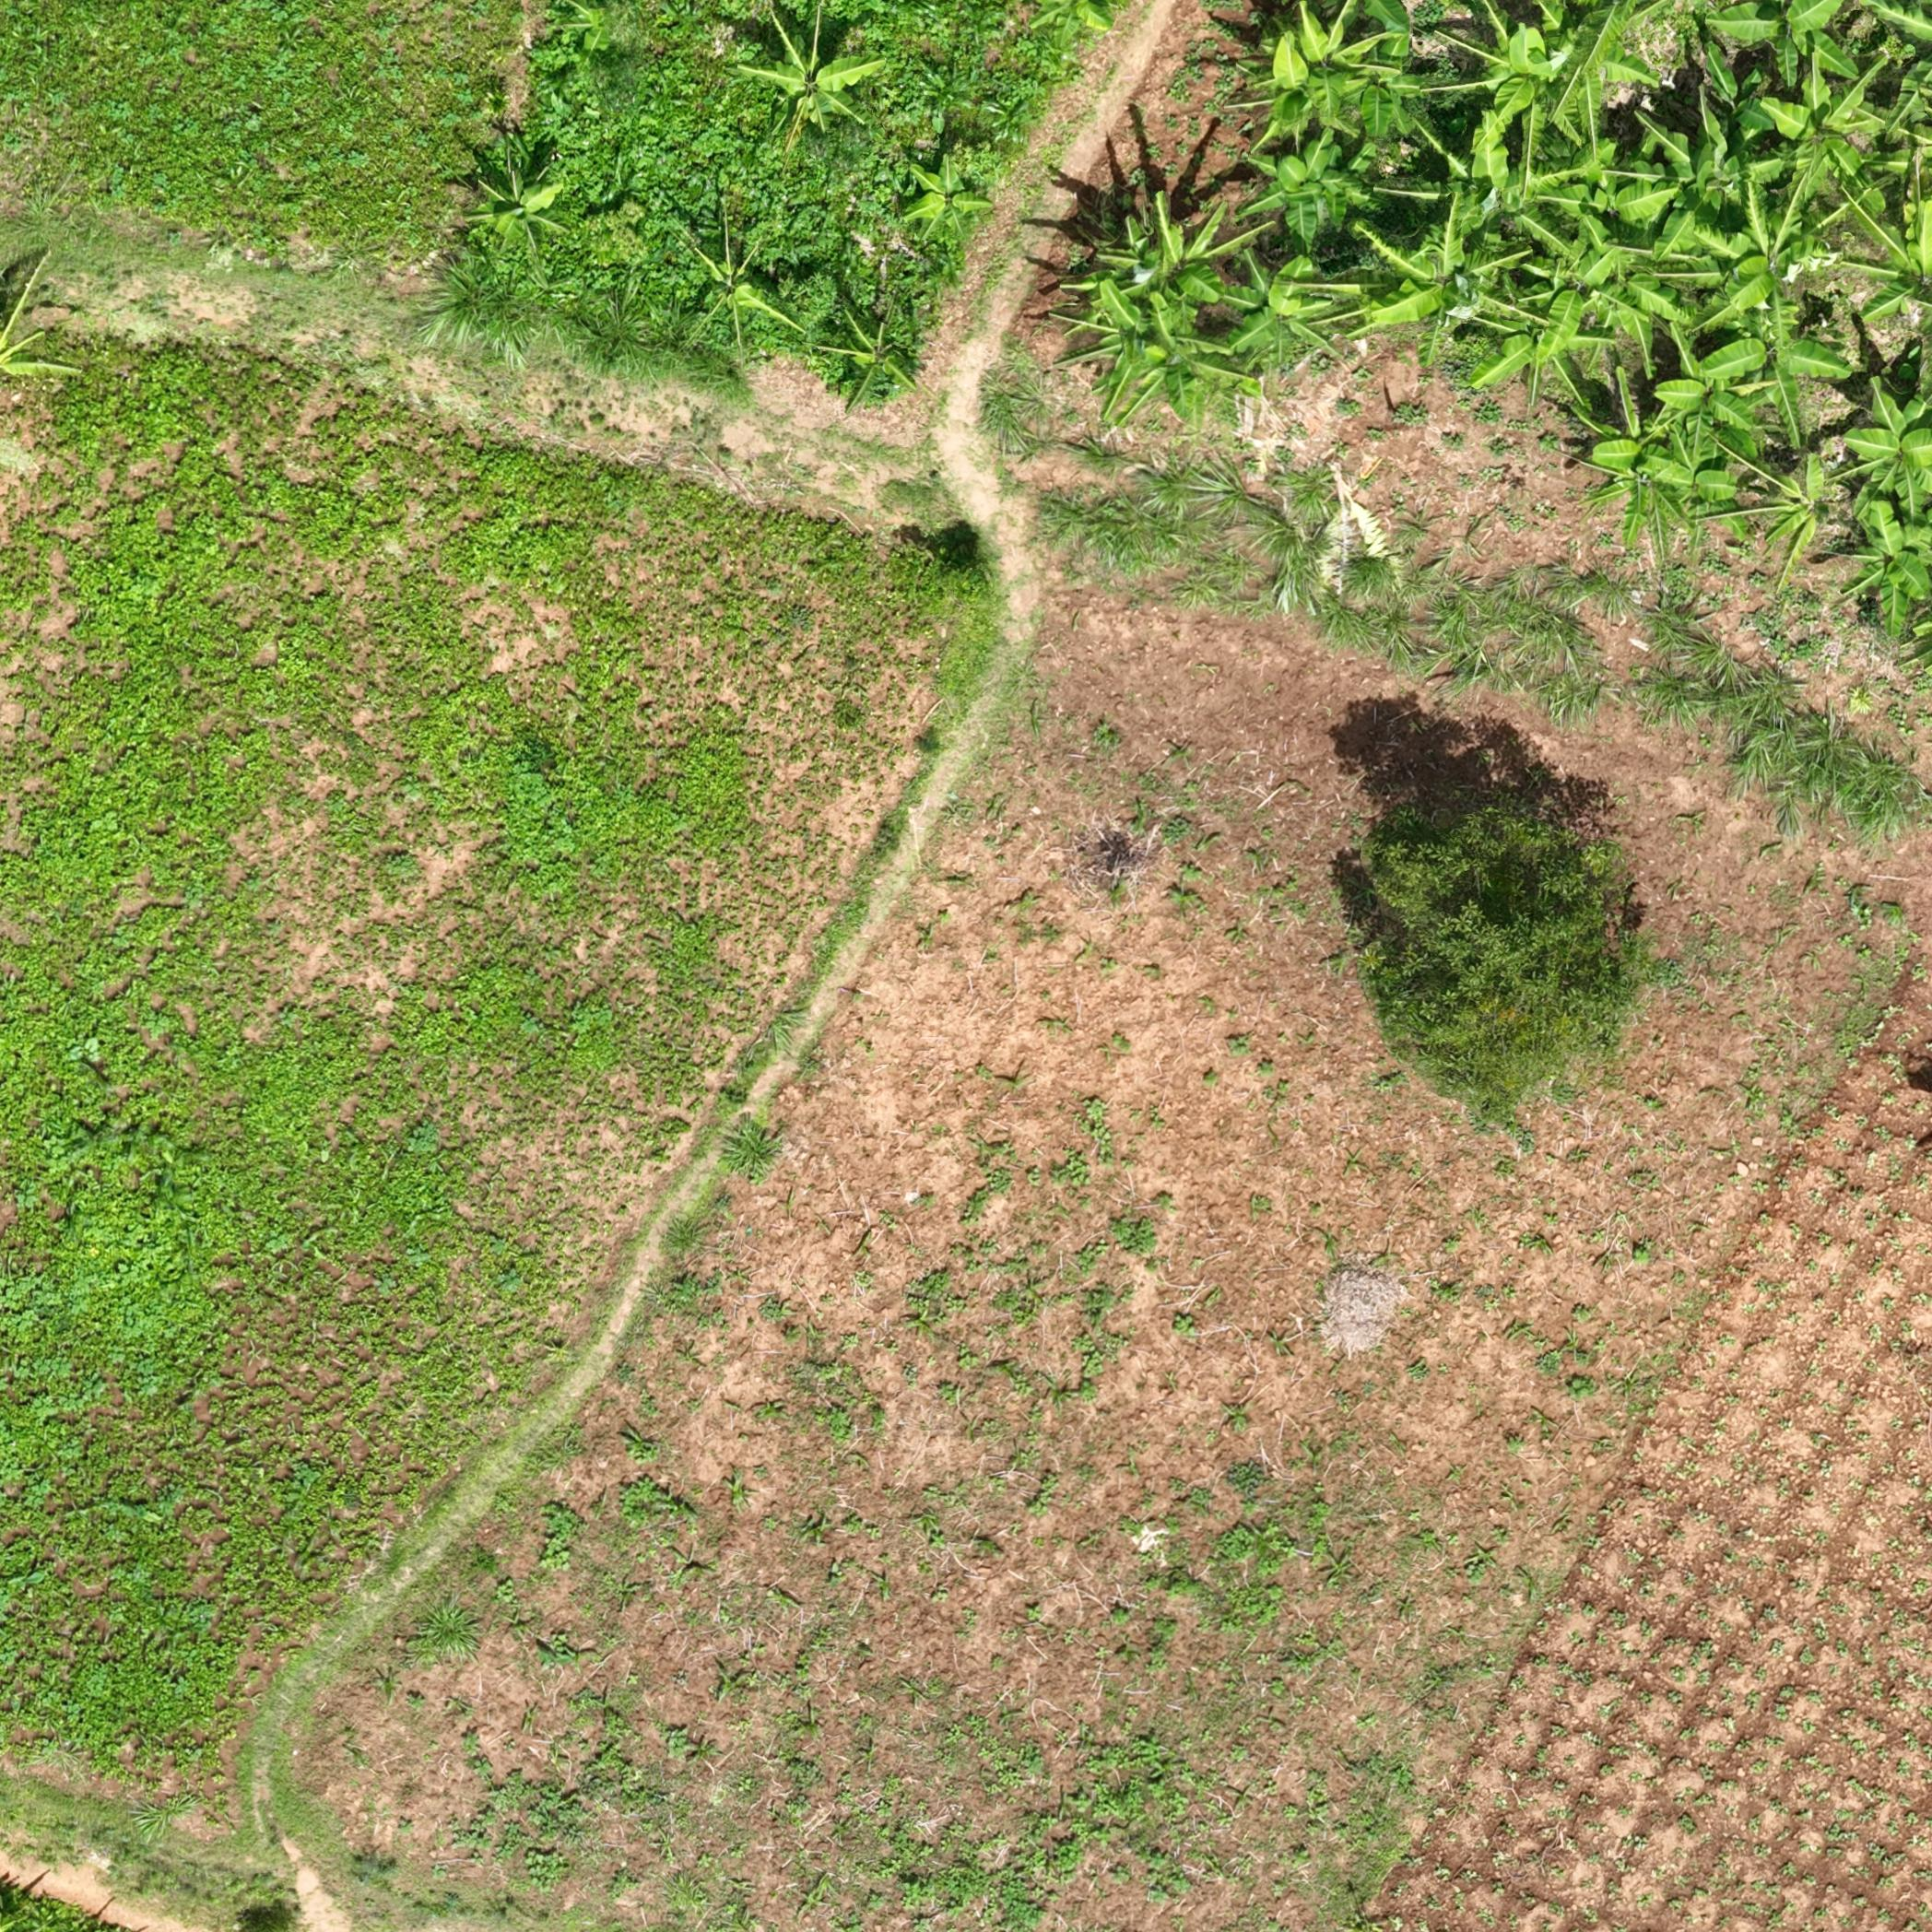Banana: (665, 207, 812, 379), (1573, 384, 1698, 547), (743, 7, 886, 145), (1369, 221, 1513, 350), (1228, 246, 1346, 395), (1714, 441, 1844, 571), (1410, 117, 1560, 228), (1417, 5, 1568, 113), (1690, 195, 1836, 304), (1472, 295, 1599, 414), (1131, 308, 1254, 425), (1231, 138, 1366, 244), (1568, 214, 1686, 333), (1532, 14, 1647, 129), (881, 138, 993, 251), (1720, 308, 1847, 407), (1835, 186, 1928, 320), (1771, 62, 1874, 184), (1146, 195, 1253, 308), (1707, 4, 1865, 80), (814, 297, 916, 412), (1270, 5, 1407, 90), (1578, 120, 1688, 223), (1854, 485, 1923, 635), (1660, 111, 1775, 198), (1258, 53, 1366, 142), (1663, 336, 1766, 428), (1083, 281, 1150, 418), (1858, 375, 1928, 504), (1849, 69, 1928, 180), (467, 165, 559, 258), (1108, 226, 1189, 294), (1361, 69, 1422, 140), (1859, 5, 1928, 57), (1039, 4, 1106, 55)
